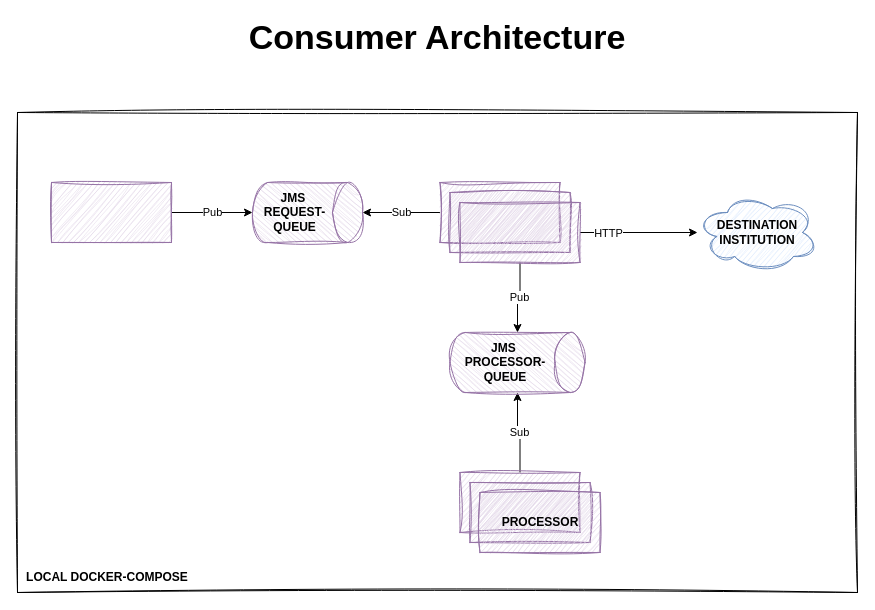
Image size: 875x610. Some labels were removed from this diagram. The shapes that lost their labels are listed below. From the top down, each one's centre as x and y in pixels, then its label:
(x=111, y=212): SCHEDULE
(x=519, y=232): CONSUMER
